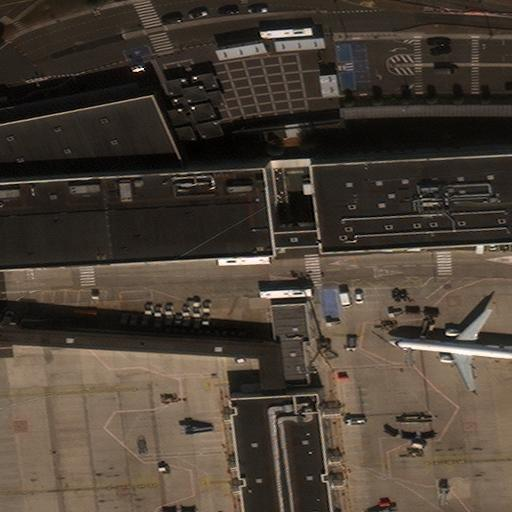Medium Civil Transport: (388, 308, 511, 391)
